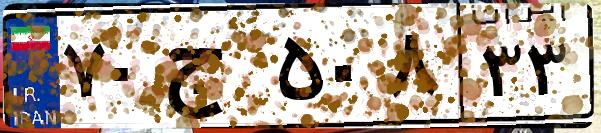0: (330, 28, 385, 110), (110, 28, 158, 98)
3: (475, 38, 525, 113), (525, 38, 570, 115)
5: (270, 28, 330, 110)
7: (57, 26, 110, 100)
8: (385, 28, 445, 110)
ج: (158, 20, 270, 120)
